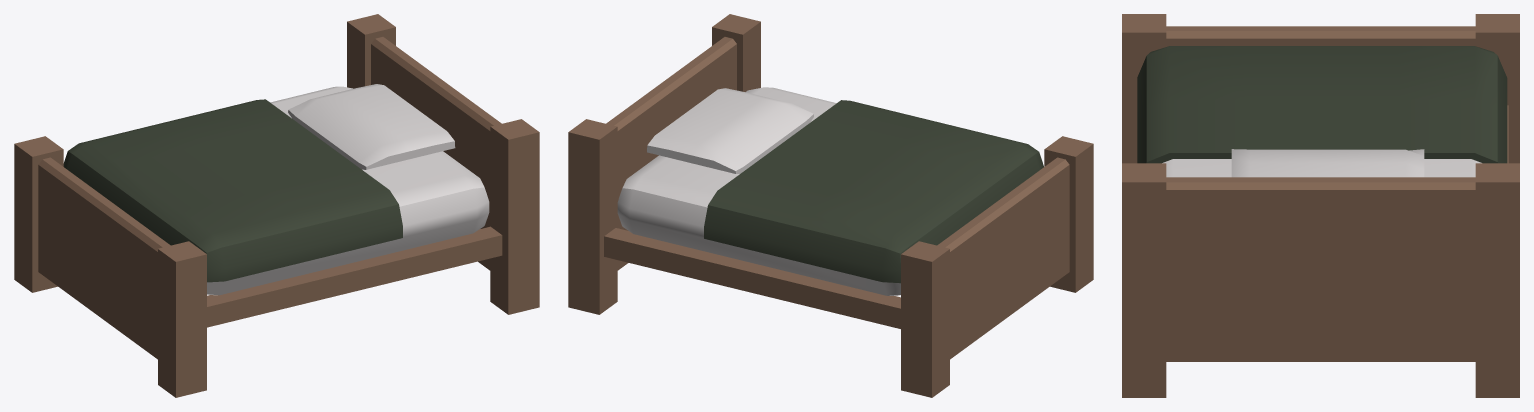
The model's file is bed.fbx.
3 renders of one model, left to right at view 1: azimuth 30°, elevation 25°; view 2: azimuth 150°, elevation 25°; view 3: azimuth 270°, elevation 25°, orthographic. The views are drawn at different scales.
Visible parts, largest first — view 1: pCube1257; view 2: pCube1257; view 3: pCube1257.
Boxes of the visible parts, x1=… form: pCube1257: x1=14, y1=14, x2=539, y2=397; pCube1257: x1=568, y1=14, x2=1093, y2=397; pCube1257: x1=1122, y1=14, x2=1519, y2=397.
Bounding box in the file's own units: 2.17 × 1.01 × 1.67.
